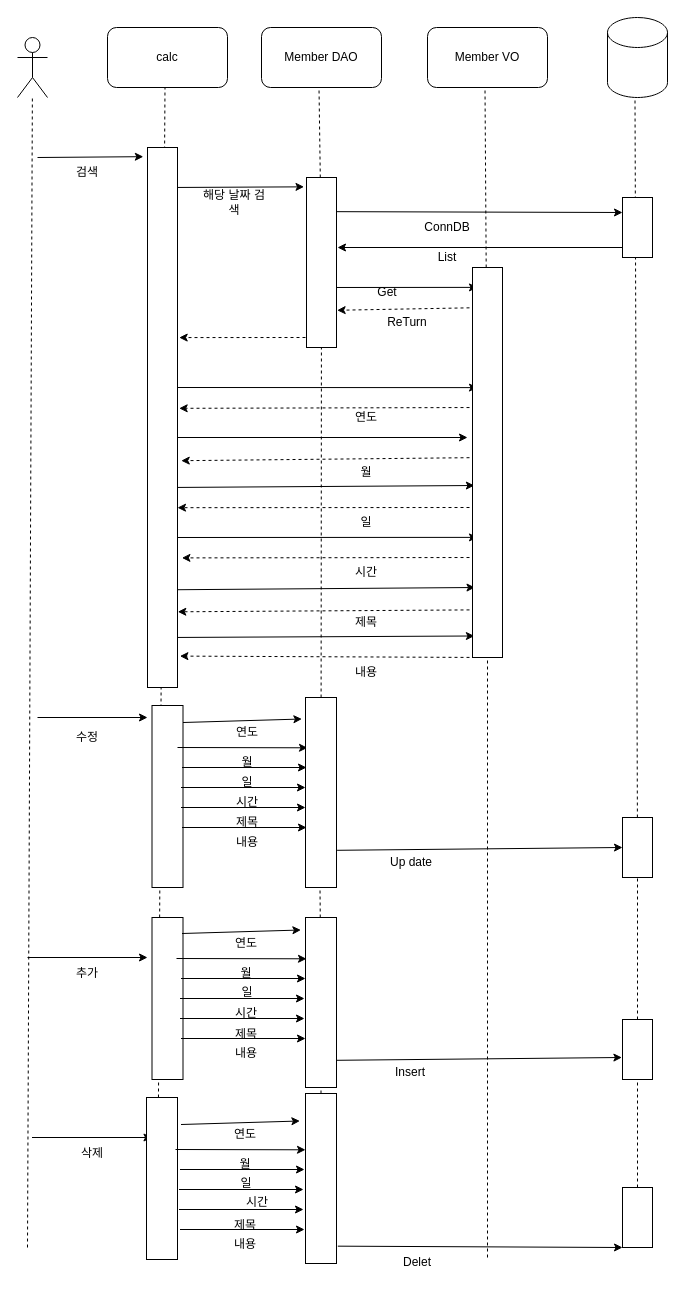
Image size: 685x1295. Some labels were removed from this diagram. Each missing label, with the centre of its shape:
"Actor" belongs at (32,67).
"DB" belongs at (637,57).
